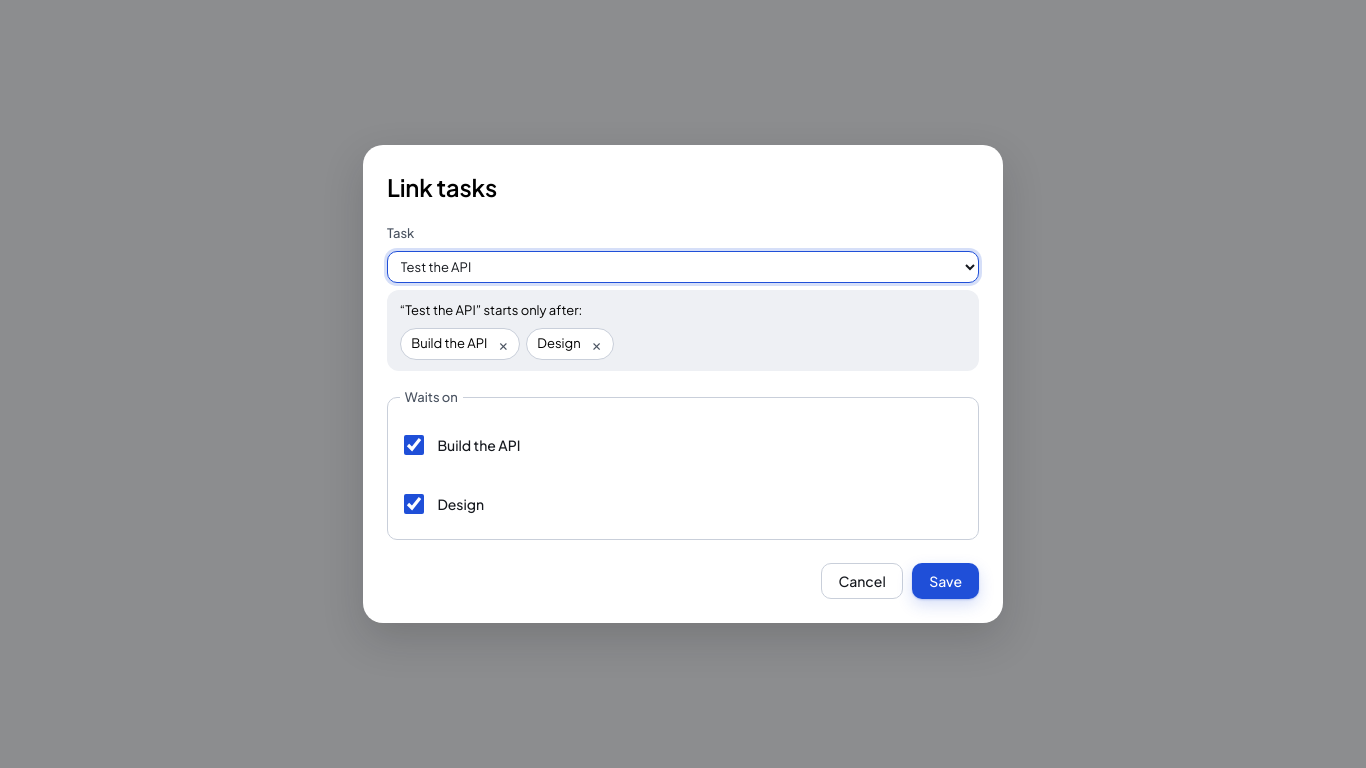
Test case: link tasks: clearing every box saves an empty list, and a loop refused by the server is shown
Click the checkbox labelled "Build the API" at (414, 445), box [404,423,424,467]
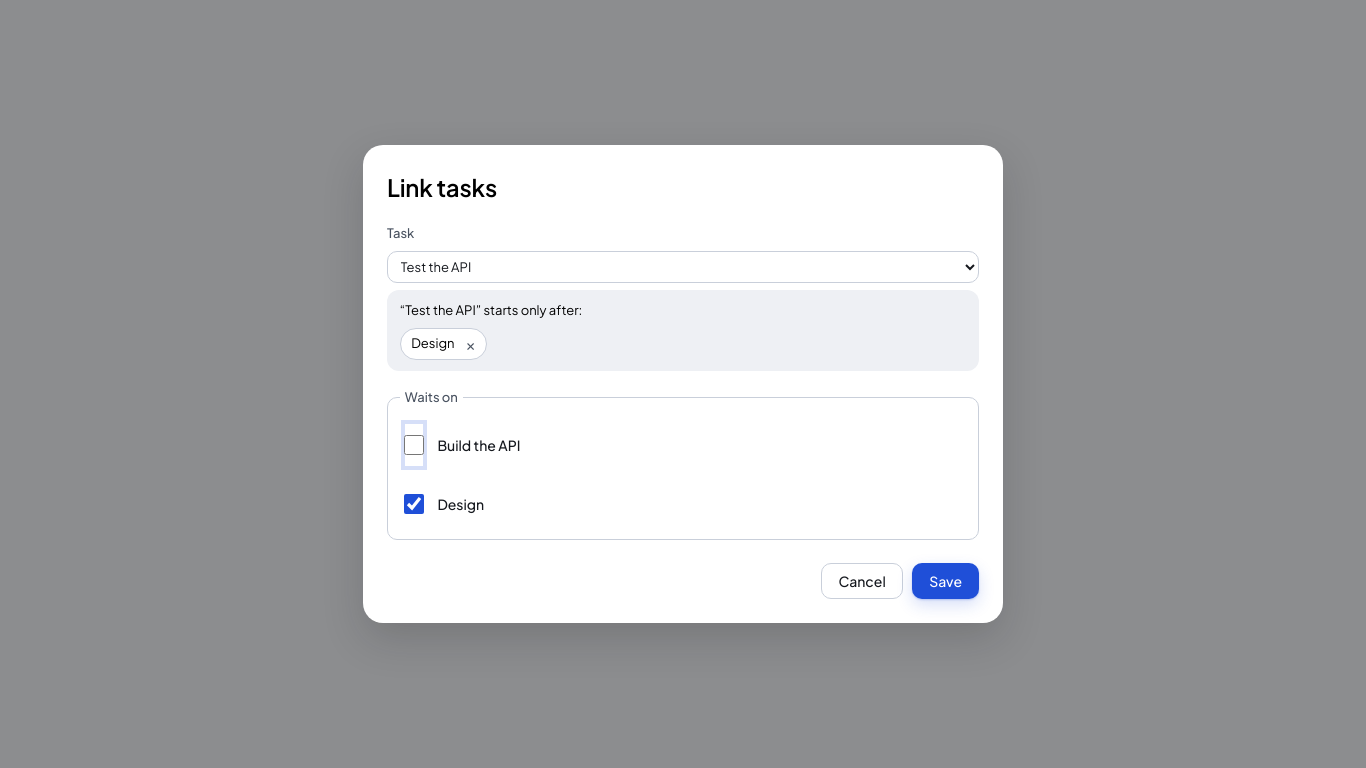
Click the checkbox labelled "Design" at (414, 504), box [404,482,424,526]
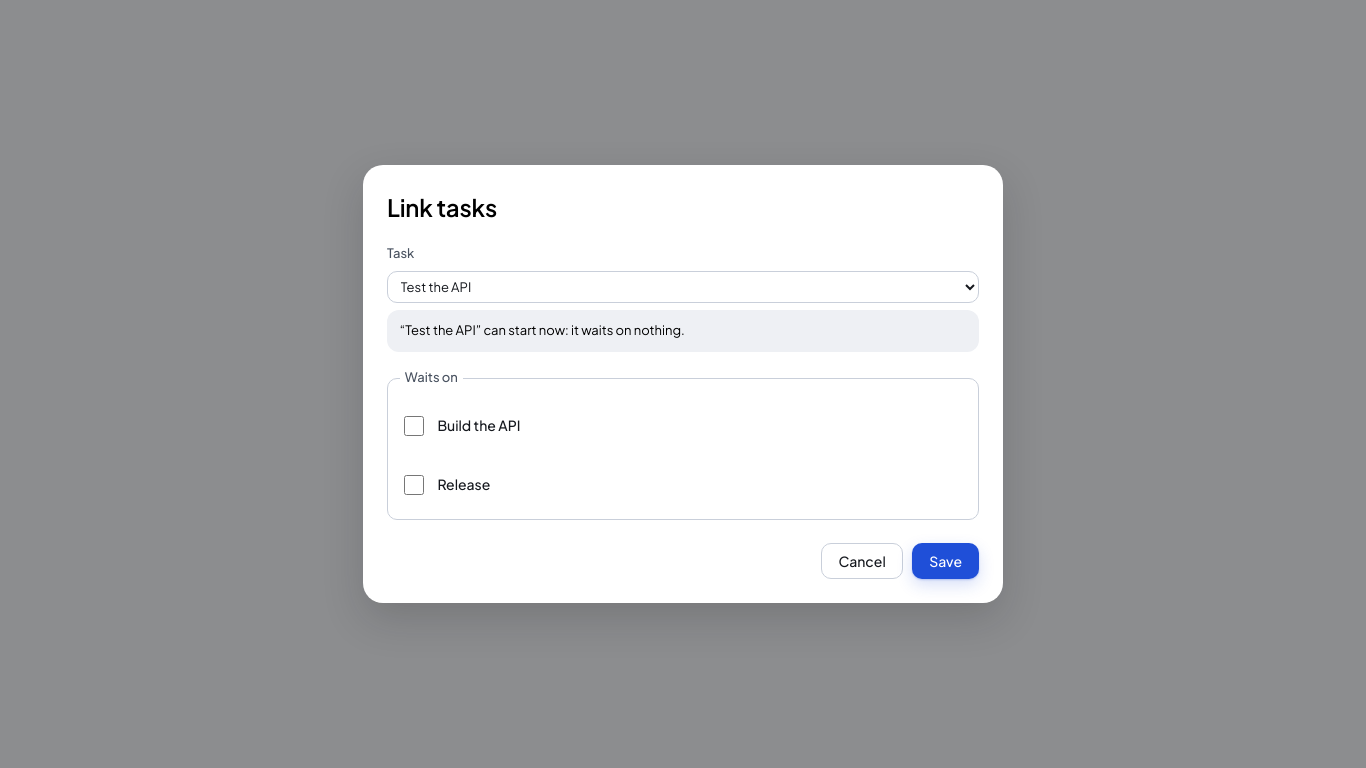
Click the button "Save" at (946, 561), box [912,543,979,579]
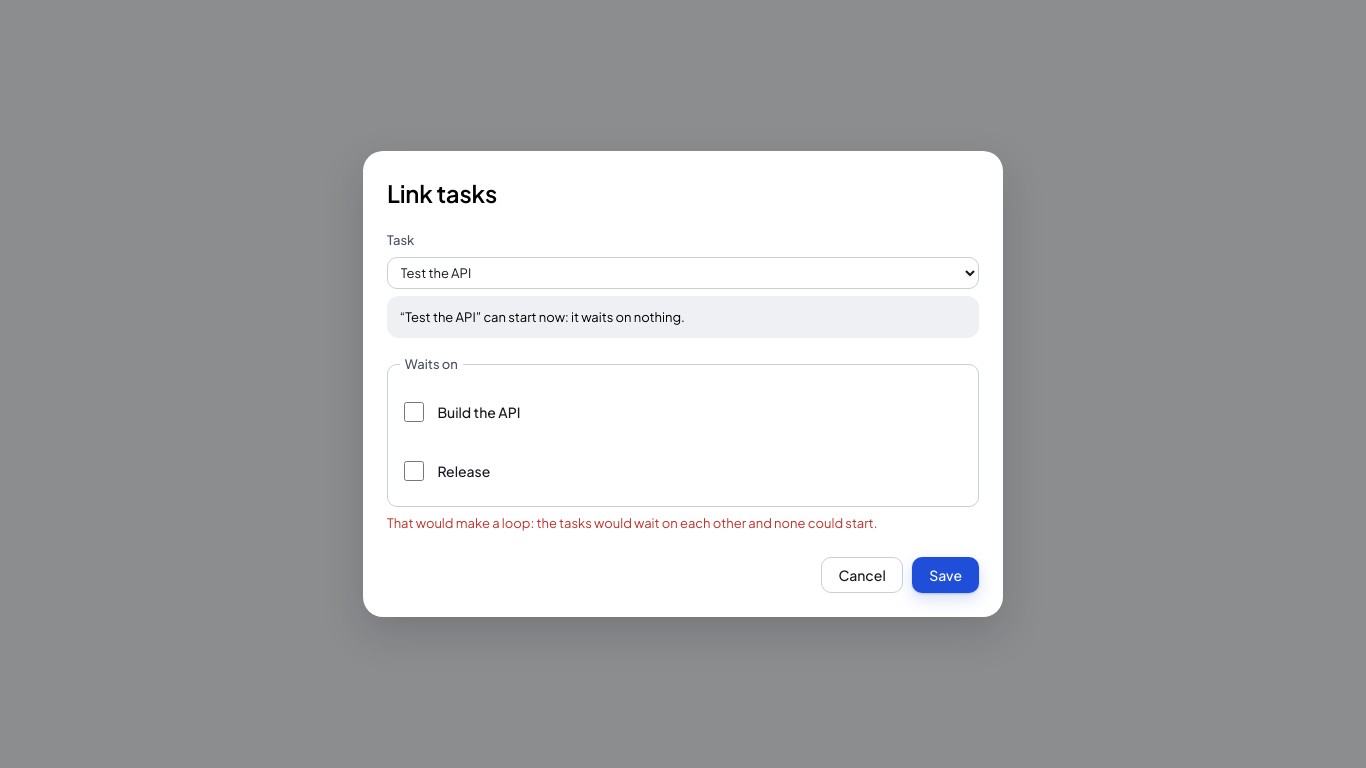
Now the message shows "That would make a loop", box [387,515,877,531]
